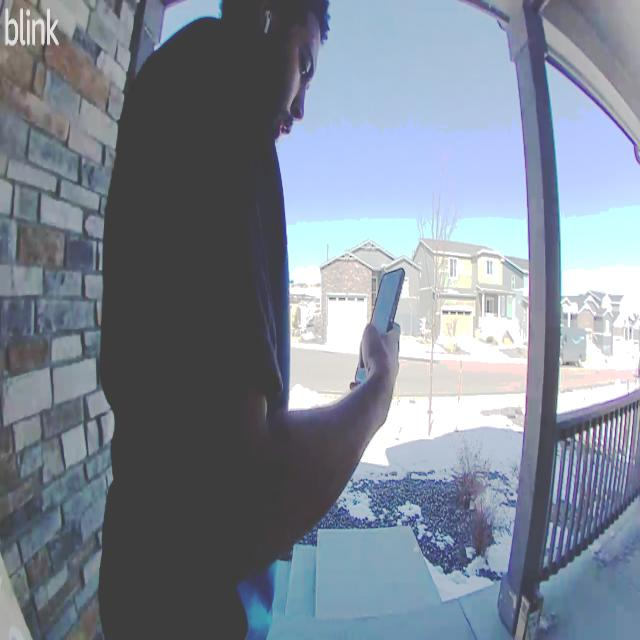Box: (515, 591, 546, 640)
